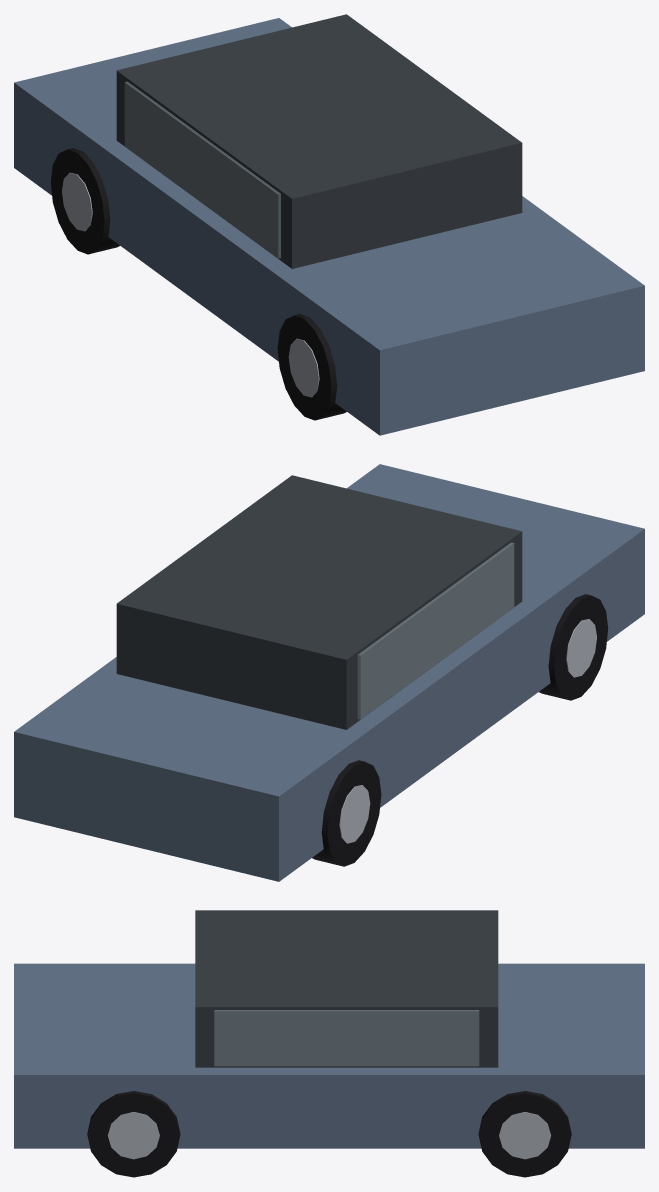
Rendered from car_sedan.glb.
3 views of the same model, one above another, from view 1: azimuth 30°, elevation 25°; view 2: azimuth 150°, elevation 25°; view 3: azimuth 270°, elevation 25° (orthographic). The views are drawn at different scales.
Bounding box in the file's own units: 1.91 × 1.22 × 4.35.
